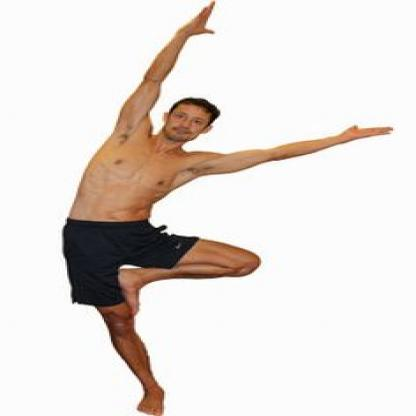tree: (50, 0, 405, 416)
